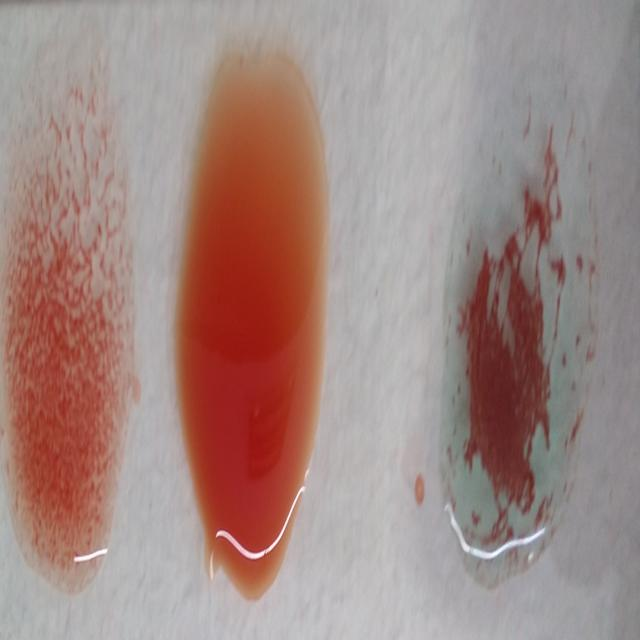A: (441, 100, 594, 575)
D: (3, 51, 132, 589)
